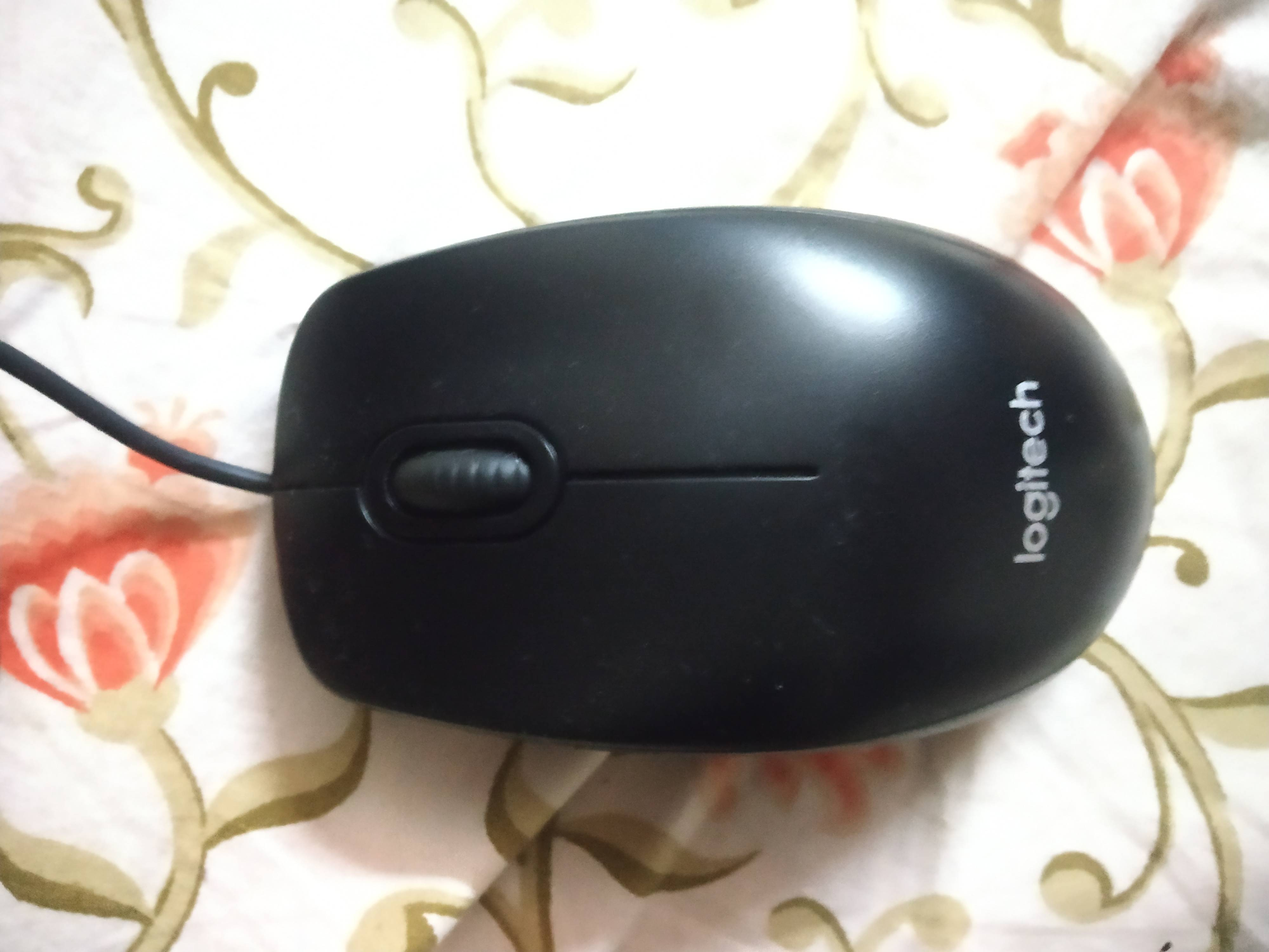Electronics: (240, 190, 1182, 771)
